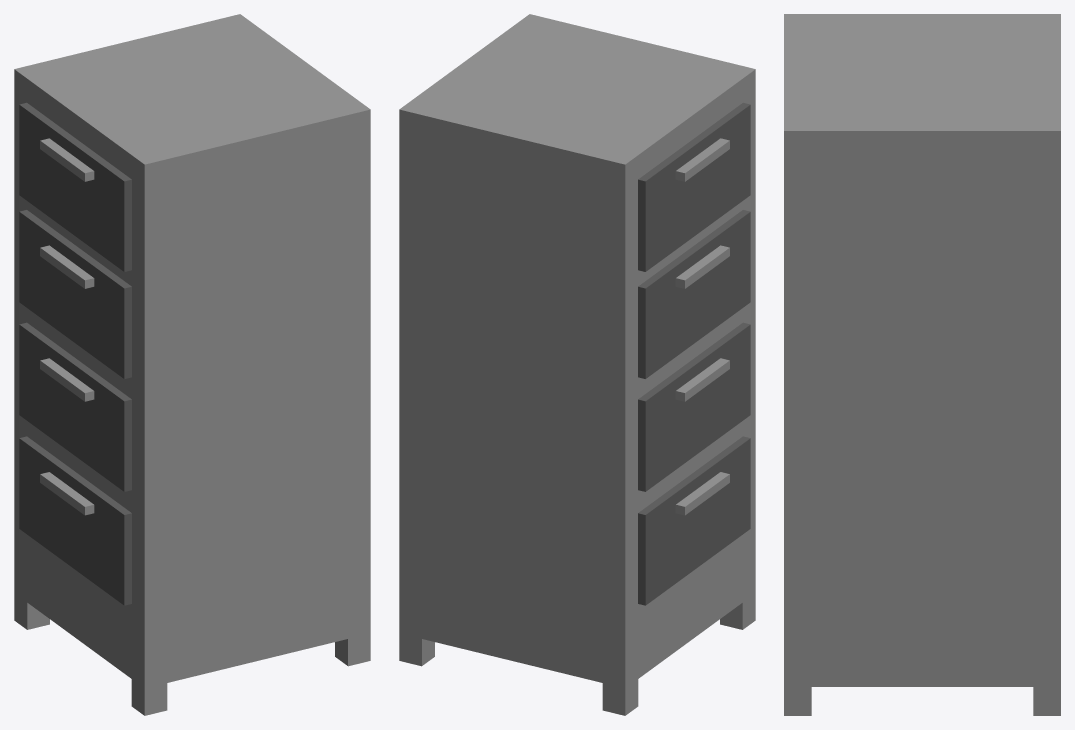
File: Cabinet2.obj
3 renders of one model, left to right at view 1: azimuth 30°, elevation 25°; view 2: azimuth 150°, elevation 25°; view 3: azimuth 270°, elevation 25°, orthographic. The views are drawn at different scales.
Visible parts, largest first — view 1: Cabinet2; view 2: Cabinet2; view 3: Cabinet2.
Part boxes in pixels (x1,y1,x2,y2): Cabinet2: (14,14,370,715); Cabinet2: (399,14,755,715); Cabinet2: (784,14,1060,715).
Size of the model in its own units: 130 by 281 by 121.
